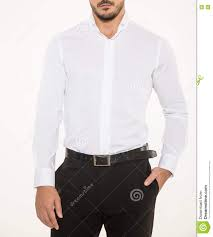F_belt: (59, 144, 160, 164)
F_dress pants: (45, 163, 162, 237)
F_shirt: (31, 13, 190, 190)
